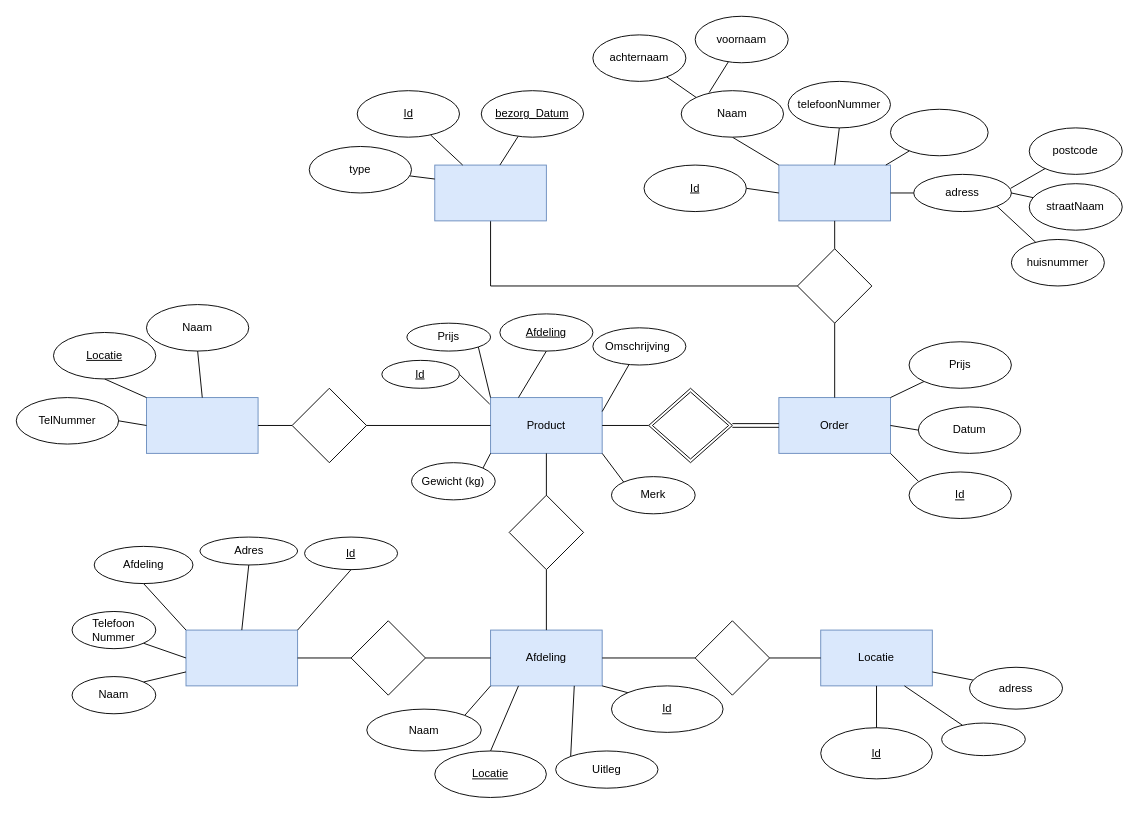
Image size: 1139x814. Some labels were removed from this diagram. The shapes that lost their labels are listed below. From the top down, each one's centre as x and y in pixels, then its label:
(x=939, y=132): Email
(x=490, y=192): bezorging
(x=834, y=192): Klant
(x=834, y=285): kiest
(x=202, y=425): leverancier
(x=329, y=425): levert
(x=690, y=425): houdt in
(x=546, y=532): heeft
(x=241, y=657): Medewerker
(x=387, y=657): Werkt bij
(x=732, y=657): Staat in
(x=983, y=739): Stad
